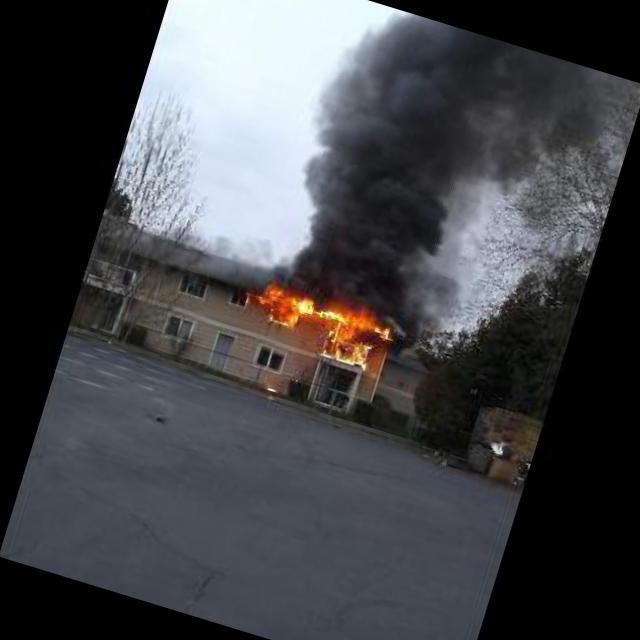fire: (227, 267, 423, 385)
smoke: (254, 0, 547, 331)
